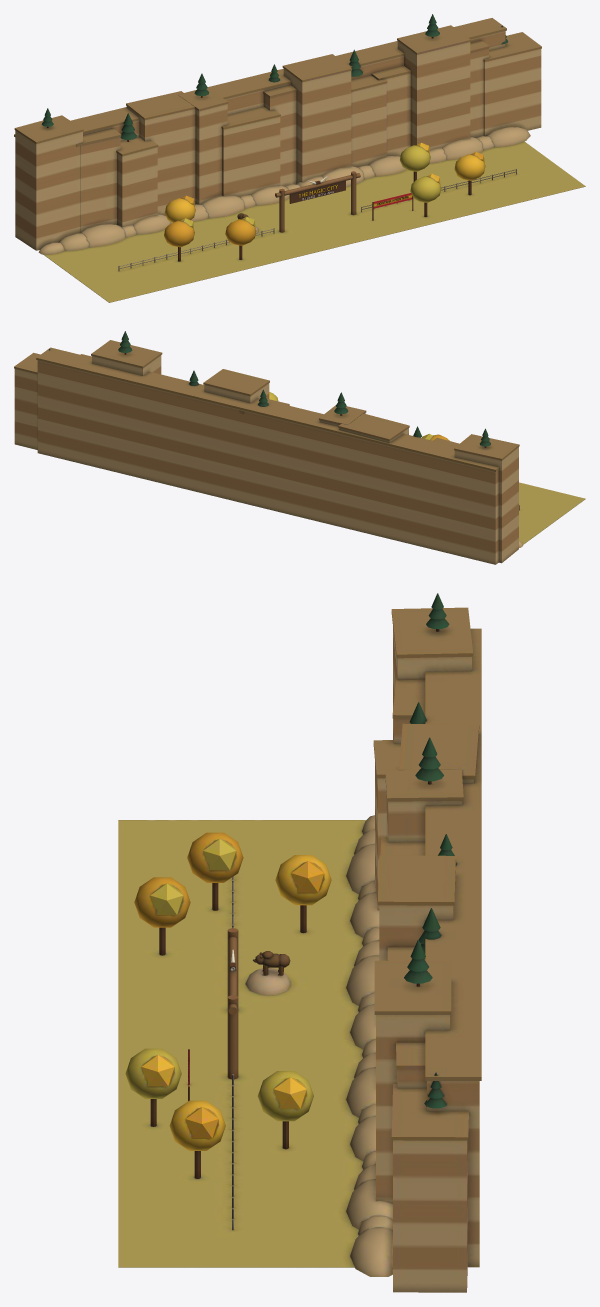
File: rims_billings.glb
3 views of the same model, one above another, from view 1: azimuth 30°, elevation 25°; view 2: azimuth 150°, elevation 25°; view 3: azimuth 270°, elevation 25° (orthographic). The views are drawn at different scales.
Visible parts, largest first — view 1: rims_billings; view 2: rims_billings; view 3: rims_billings.
Boxes of the visible parts, bbox=[...] form: rims_billings: bbox=[14, 14, 585, 302]; rims_billings: bbox=[14, 331, 585, 564]; rims_billings: bbox=[118, 593, 481, 1292].
Size of the model in its own units: 128 by 32.19 by 41.2.
Materials: 1 (1 with a texture image).
